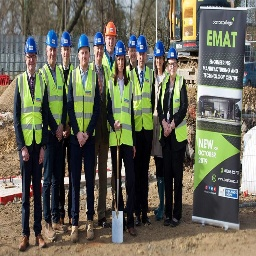helmet: (45, 28, 59, 53), (24, 37, 39, 59), (152, 40, 166, 62), (136, 34, 149, 57), (165, 43, 178, 64), (114, 40, 127, 60), (77, 33, 91, 51), (102, 22, 114, 42), (92, 33, 105, 51), (127, 31, 138, 52), (60, 33, 71, 50)
person: (11, 32, 47, 255), (40, 31, 69, 244), (69, 35, 97, 245), (130, 29, 158, 237), (111, 36, 136, 244), (162, 43, 189, 229), (90, 30, 115, 230), (152, 33, 168, 224), (58, 27, 76, 83), (101, 21, 118, 69), (125, 33, 136, 76)
vest: (14, 70, 48, 152), (42, 64, 69, 147), (108, 73, 135, 156), (74, 60, 97, 144), (163, 77, 186, 150), (134, 65, 155, 136)
